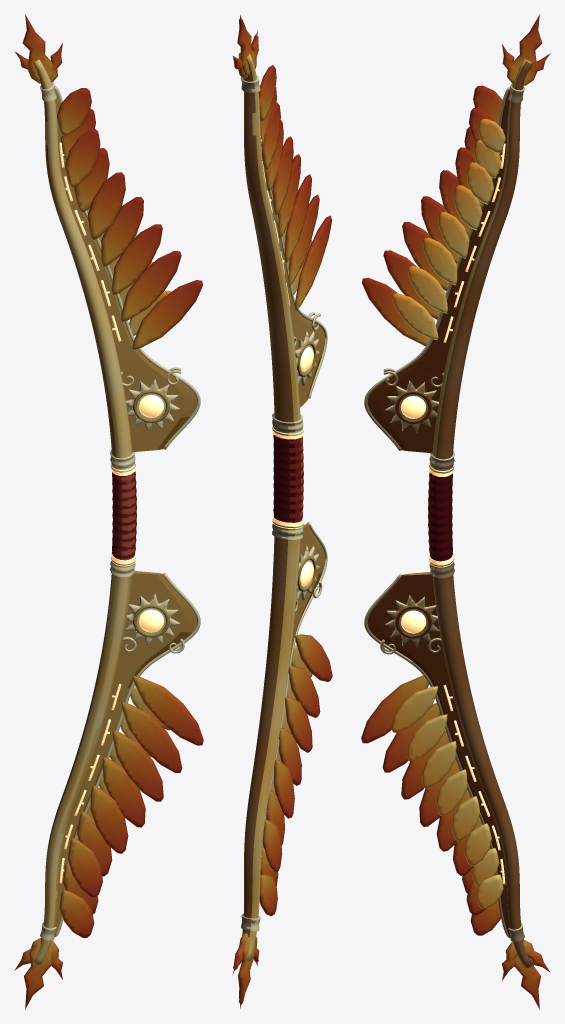
Rendered from bw_dawn_bow.glb.
The picture shows the model from 3 angles, left to right: view 1: azimuth 90°, elevation 25°; view 2: azimuth 150°, elevation 25°; view 3: azimuth 270°, elevation 25°; orthographic projection.
Visible parts, largest first — view 1: Weapon; view 2: Weapon; view 3: Weapon.
Boxes of the visible parts, x1,y1,x2,y2 form: Weapon: (14, 14, 203, 1009); Weapon: (232, 15, 332, 1008); Weapon: (361, 14, 550, 1009).
Bounding box in the file's own units: 0.0408 × 1.36 × 0.2356.
